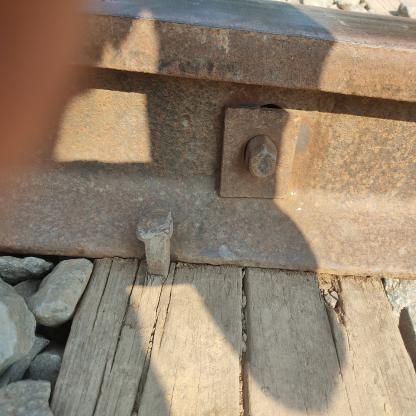Non Defective: (176, 36, 360, 262)
